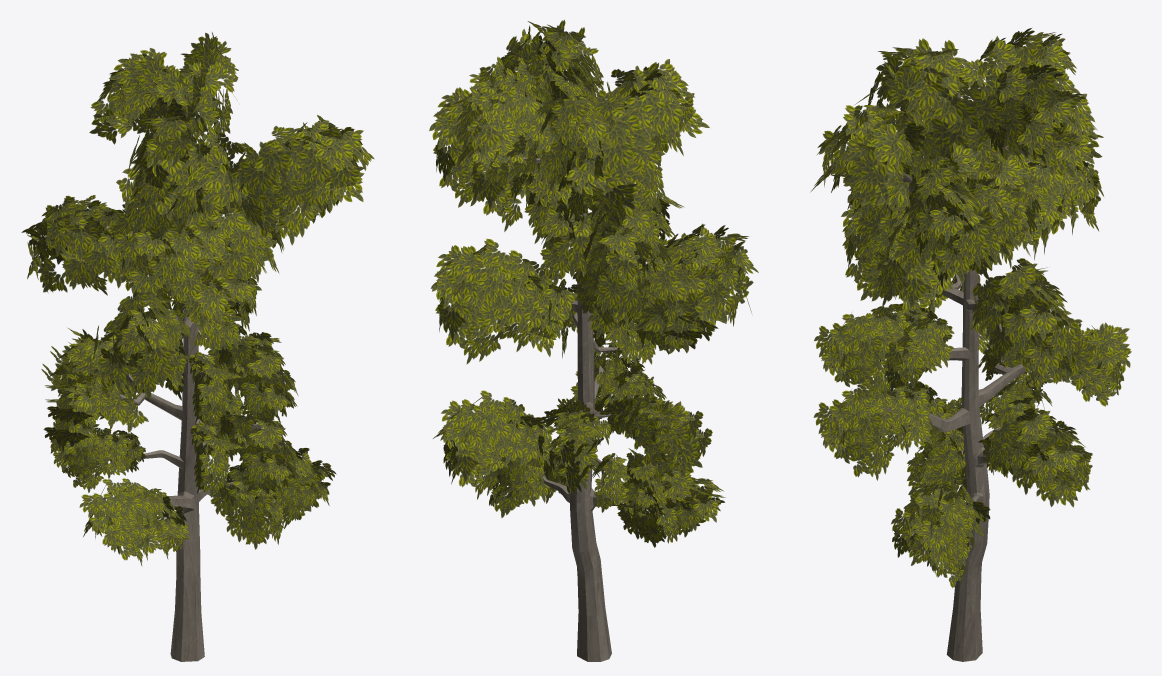
The picture shows the model from 3 angles, left to right: view 1: azimuth 30°, elevation 25°; view 2: azimuth 150°, elevation 25°; view 3: azimuth 270°, elevation 25°; orthographic projection. The views are drawn at different scales.
Visible parts, largest first — view 1: beechleaves, beech; view 2: beechleaves, beech; view 3: beechleaves, beech.
Boxes of the visible parts, left/top/right/bottom form: beechleaves: left=21, top=32, right=374, bottom=565; beech: left=120, top=109, right=262, bottom=661; beechleaves: left=429, top=20, right=758, bottom=547; beech: left=498, top=90, right=681, bottom=661; beechleaves: left=811, top=28, right=1131, bottom=587; beech: left=880, top=93, right=1047, bottom=661.
Bounding box in the file's own units: 5.46 × 10.2 × 5.07.
Materials: 2 (2 with a texture image).
